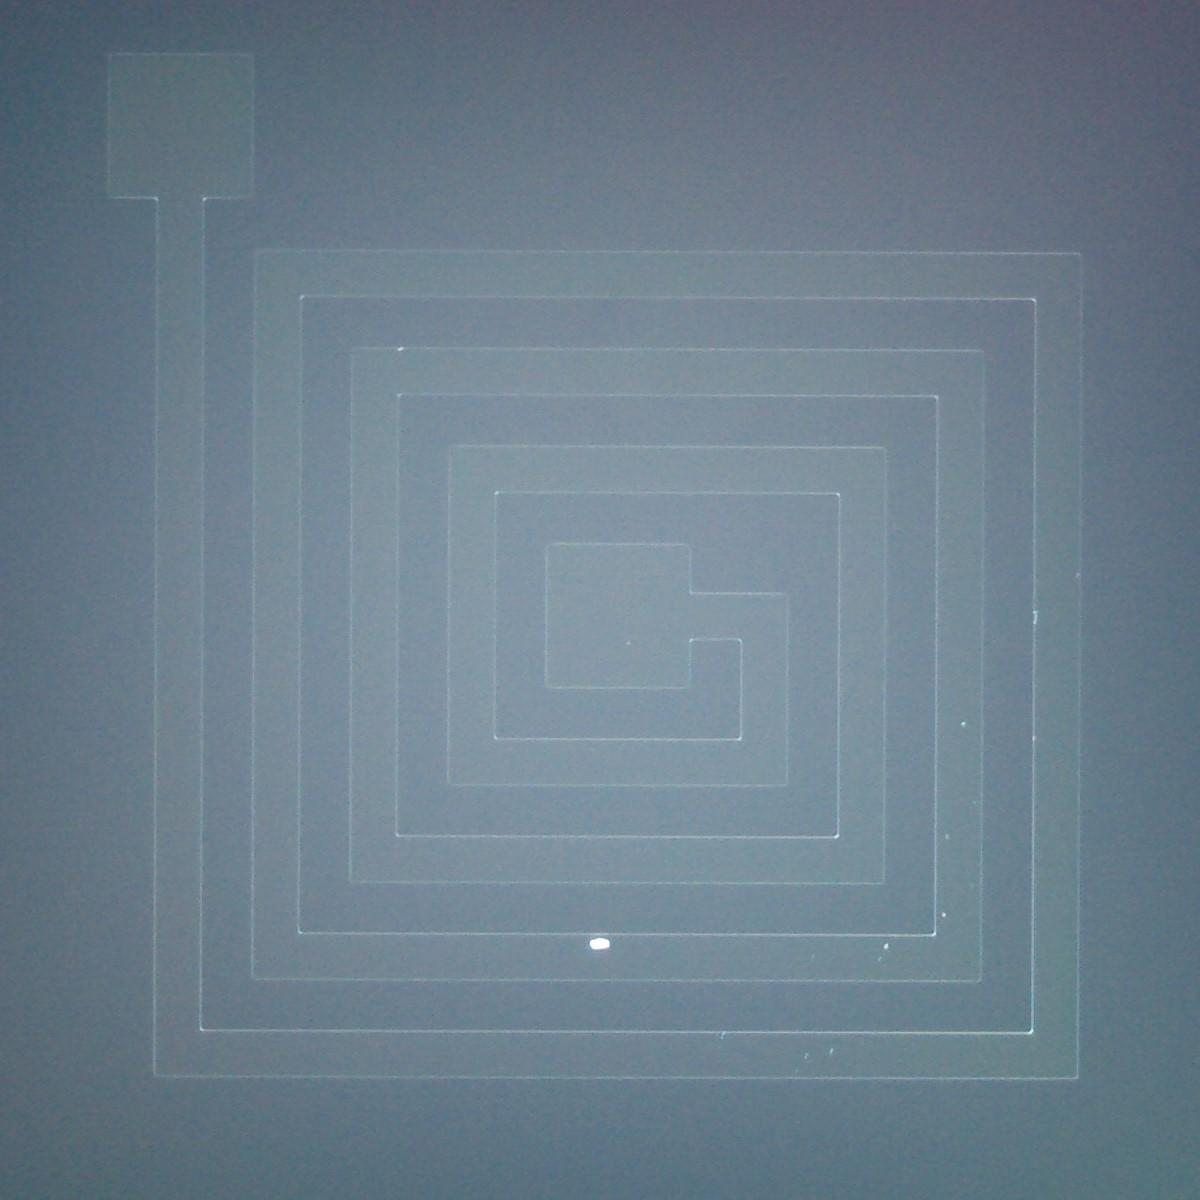B_point: (581, 932, 618, 958)
s_point: (1025, 603, 1047, 629), (711, 1025, 736, 1044), (1068, 565, 1088, 586), (392, 340, 410, 358), (798, 1046, 814, 1065), (823, 1042, 840, 1059), (936, 907, 954, 923), (878, 938, 895, 955), (621, 635, 636, 652), (940, 829, 956, 844), (956, 716, 971, 732), (871, 953, 887, 967), (787, 1064, 802, 1076)
